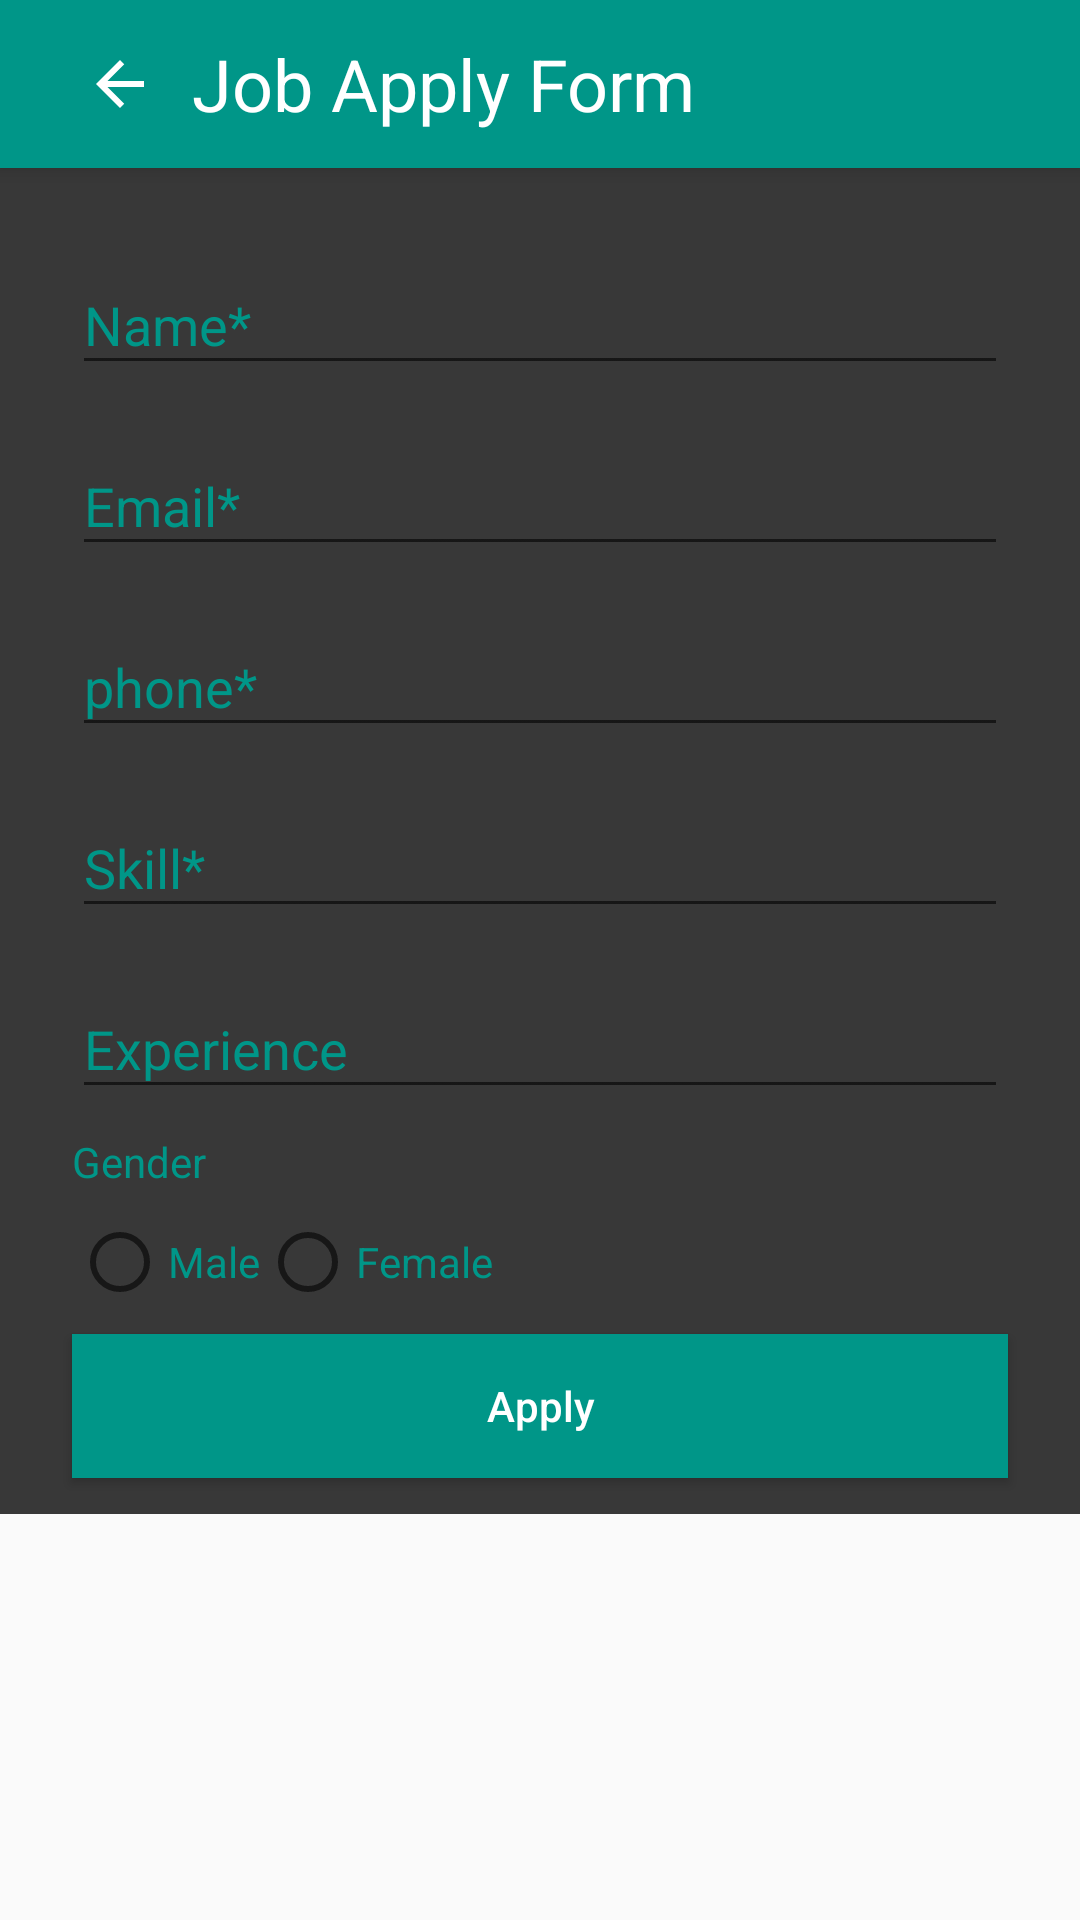

Icons on this 1080x1920 Android screen, each with the point to tap as (x=x, y=y):
arrow back: (x=120, y=84)
